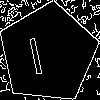I: (23, 28, 46, 76)
